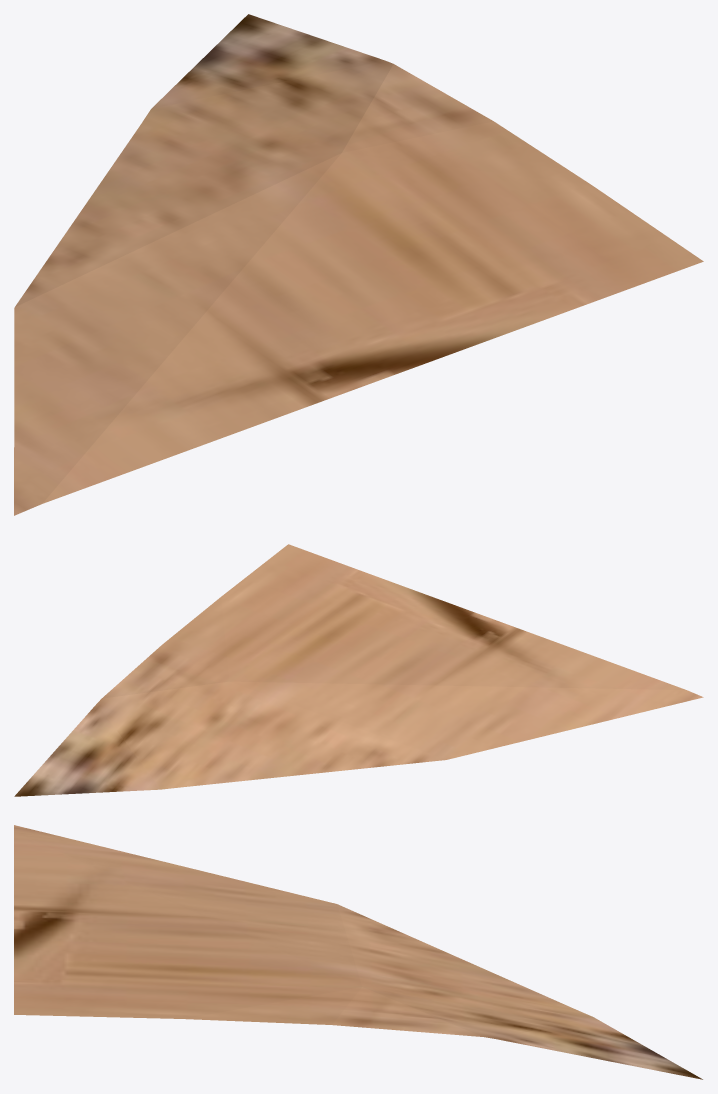
3 views of the same model, one above another, from view 1: azimuth 30°, elevation 25°; view 2: azimuth 150°, elevation 25°; view 3: azimuth 270°, elevation 25° (orthographic). The views are drawn at different scales.
Bounding box in the file's own units: 0.6326 × 0.0753 × 0.7236.
Materials: 1 (1 with a texture image).
